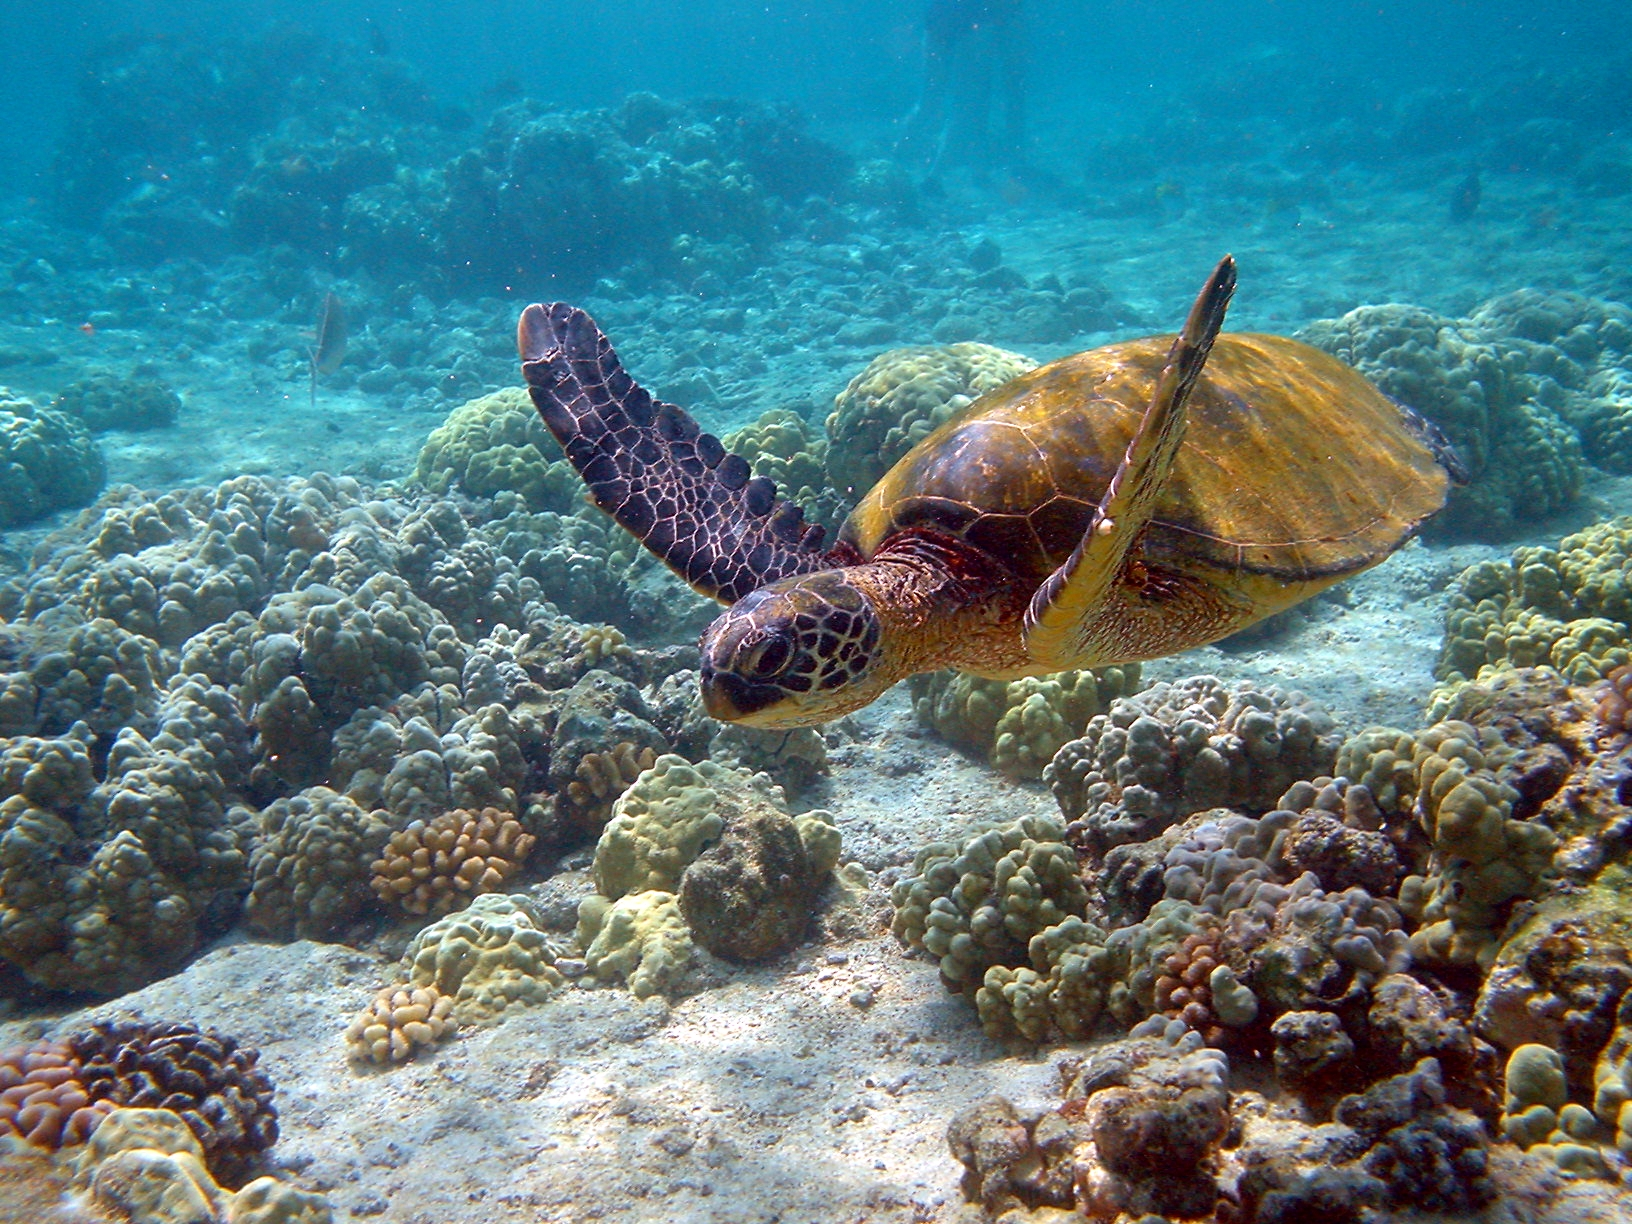eye: (741, 625, 795, 687)
mouth: (705, 702, 849, 728)
